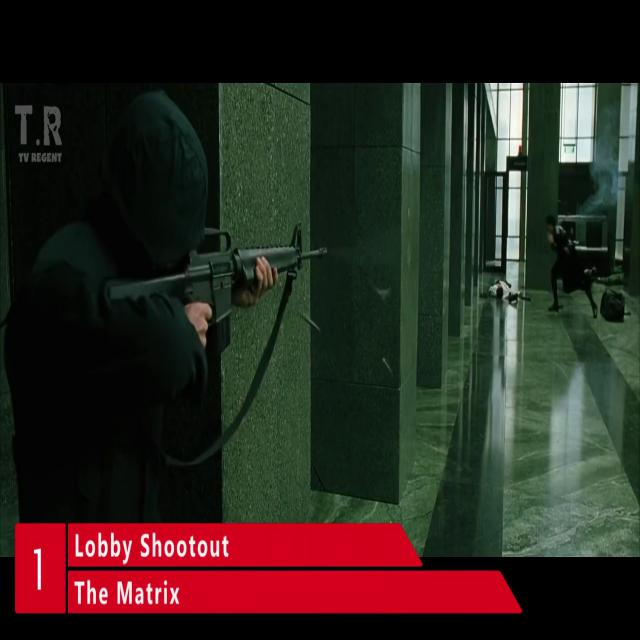long weapon: (85, 200, 329, 390)
